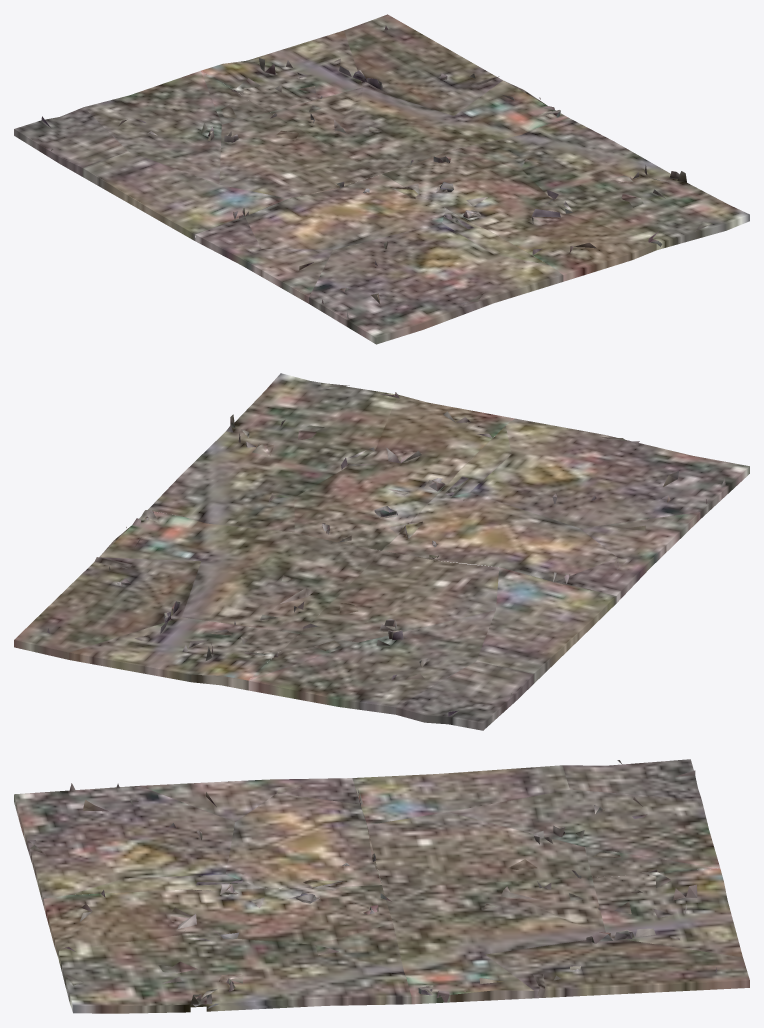
The picture shows the model from 3 angles, top to bottom: view 1: azimuth 30°, elevation 25°; view 2: azimuth 150°, elevation 25°; view 3: azimuth 270°, elevation 25°; orthographic projection. The views are drawn at different scales.
Parts seen in each view (by area): view 1: Mesh_0; view 2: Mesh_0; view 3: Mesh_0.
Boxes of the visible parts, <box> form: Mesh_0: <box>14,14,749,344</box>; Mesh_0: <box>14,373,749,730</box>; Mesh_0: <box>14,759,749,1013</box>.
Size of the model in its own units: 2130 by 99.14 by 2637.
Materials: 1 (1 with a texture image).
